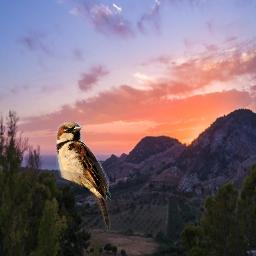Swallow: (55, 122, 111, 229)
